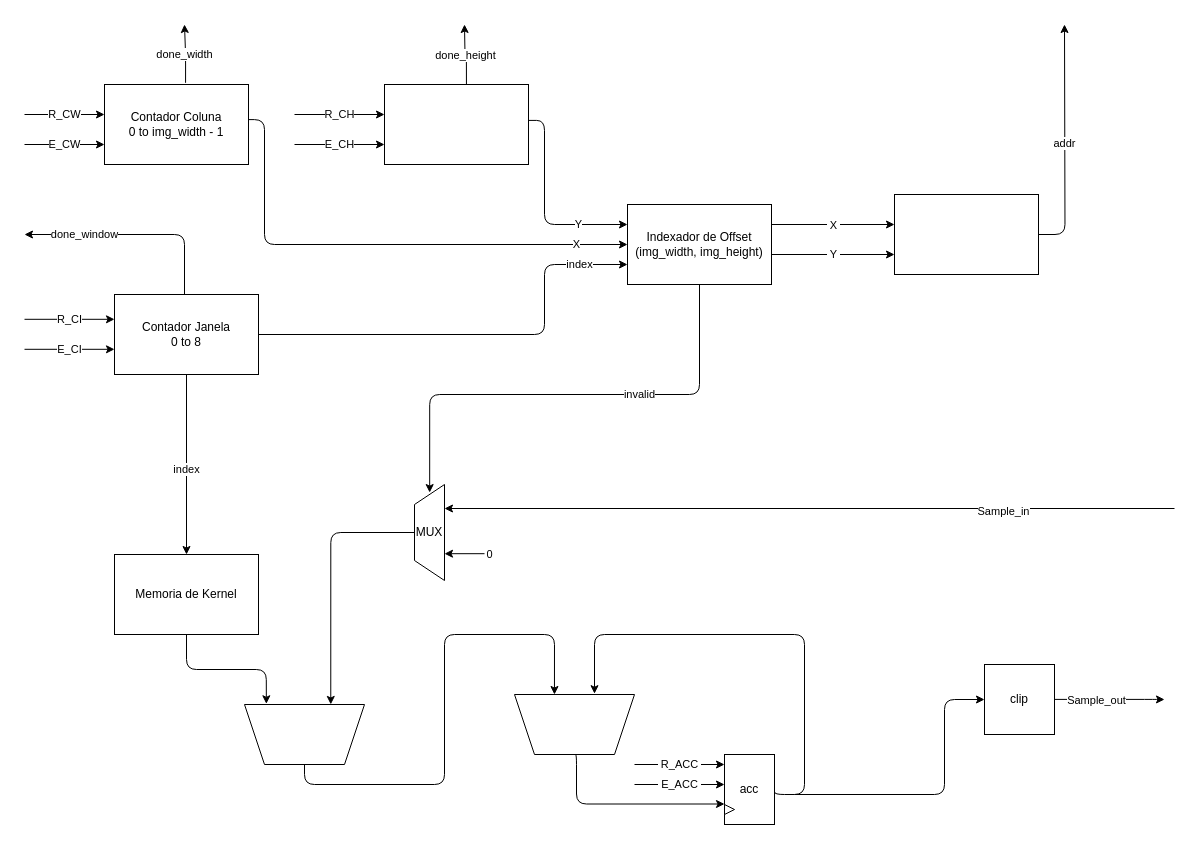
This 1200x842 diagram has some shape labels left out. Each missing label, with the box of its shape:
Calculadora de Endereço Y * img_width + X: (894, 194, 1038, 274)
Contador Linha 0 to img_height - 1: (384, 84, 528, 164)
Multiplicador: (244, 704, 364, 764)
Somador: (514, 694, 634, 754)
